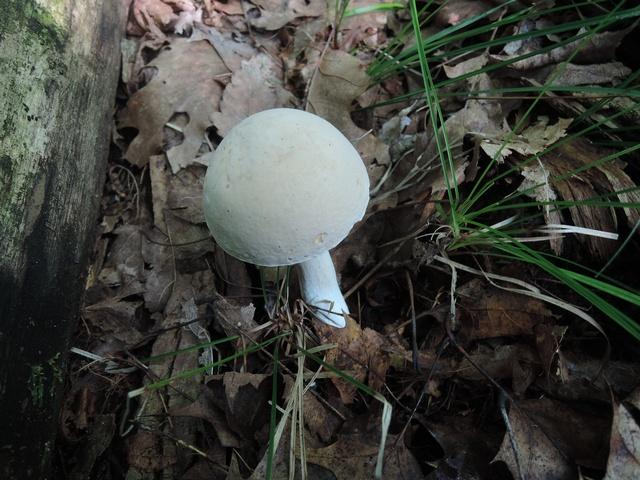edible_mushroom: (200, 106, 371, 328)
